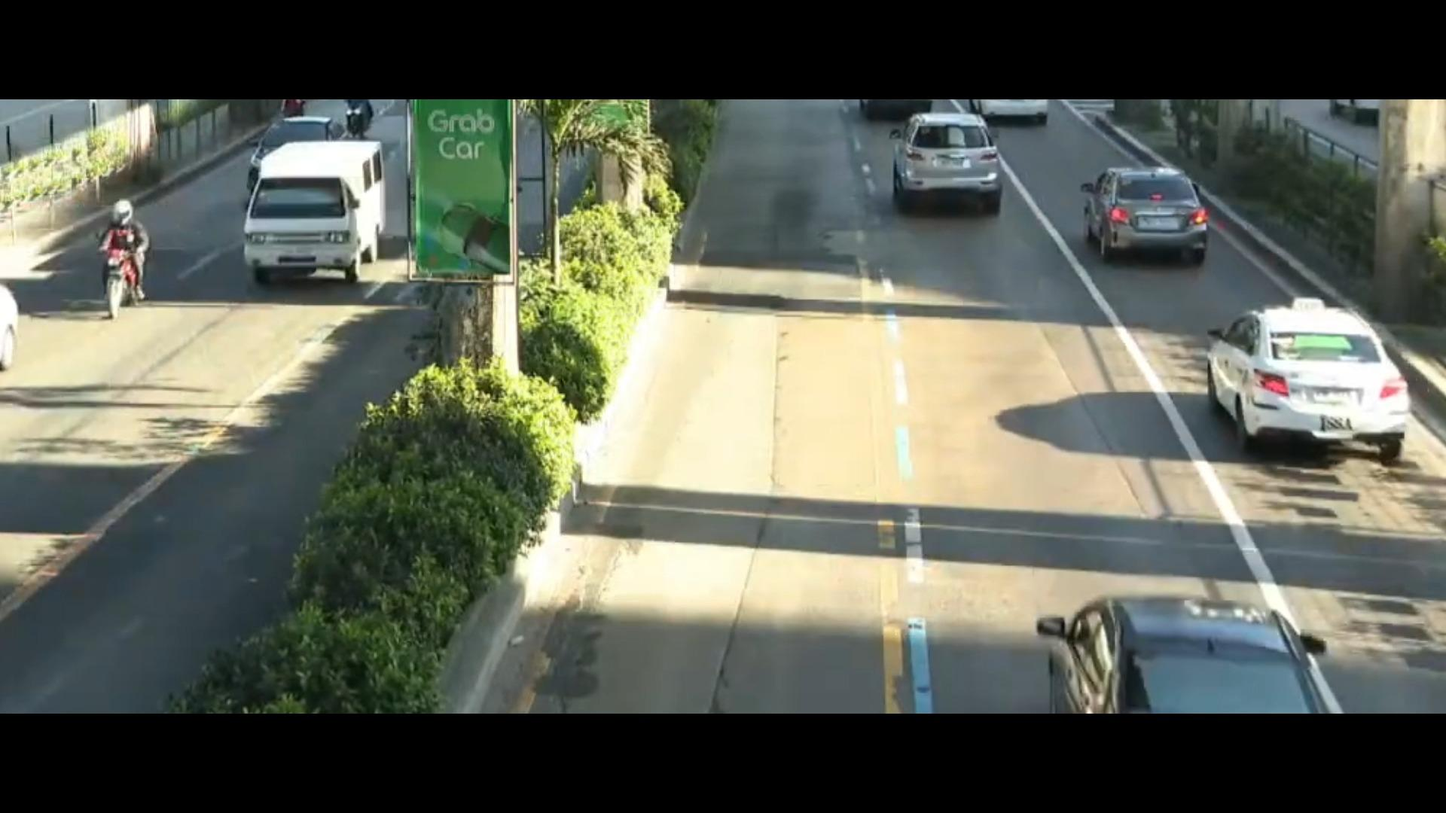Motorcycle: (73, 162, 183, 326)
Multicab: (219, 137, 400, 285)
SUV: (881, 113, 1004, 224)
Sedan: (1008, 576, 1367, 717), (1190, 273, 1421, 470), (1036, 140, 1227, 264), (228, 113, 349, 198)
